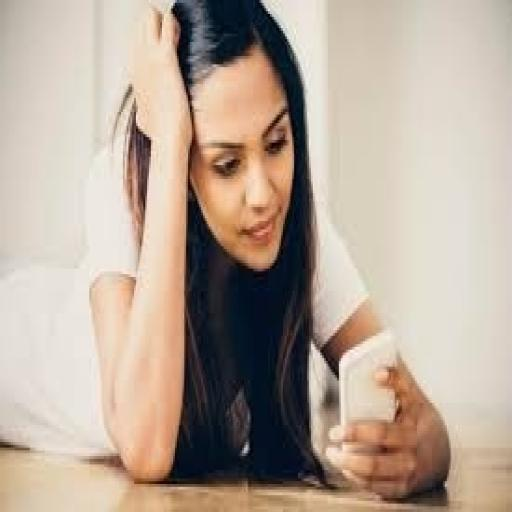texting: (84, 0, 452, 501)
